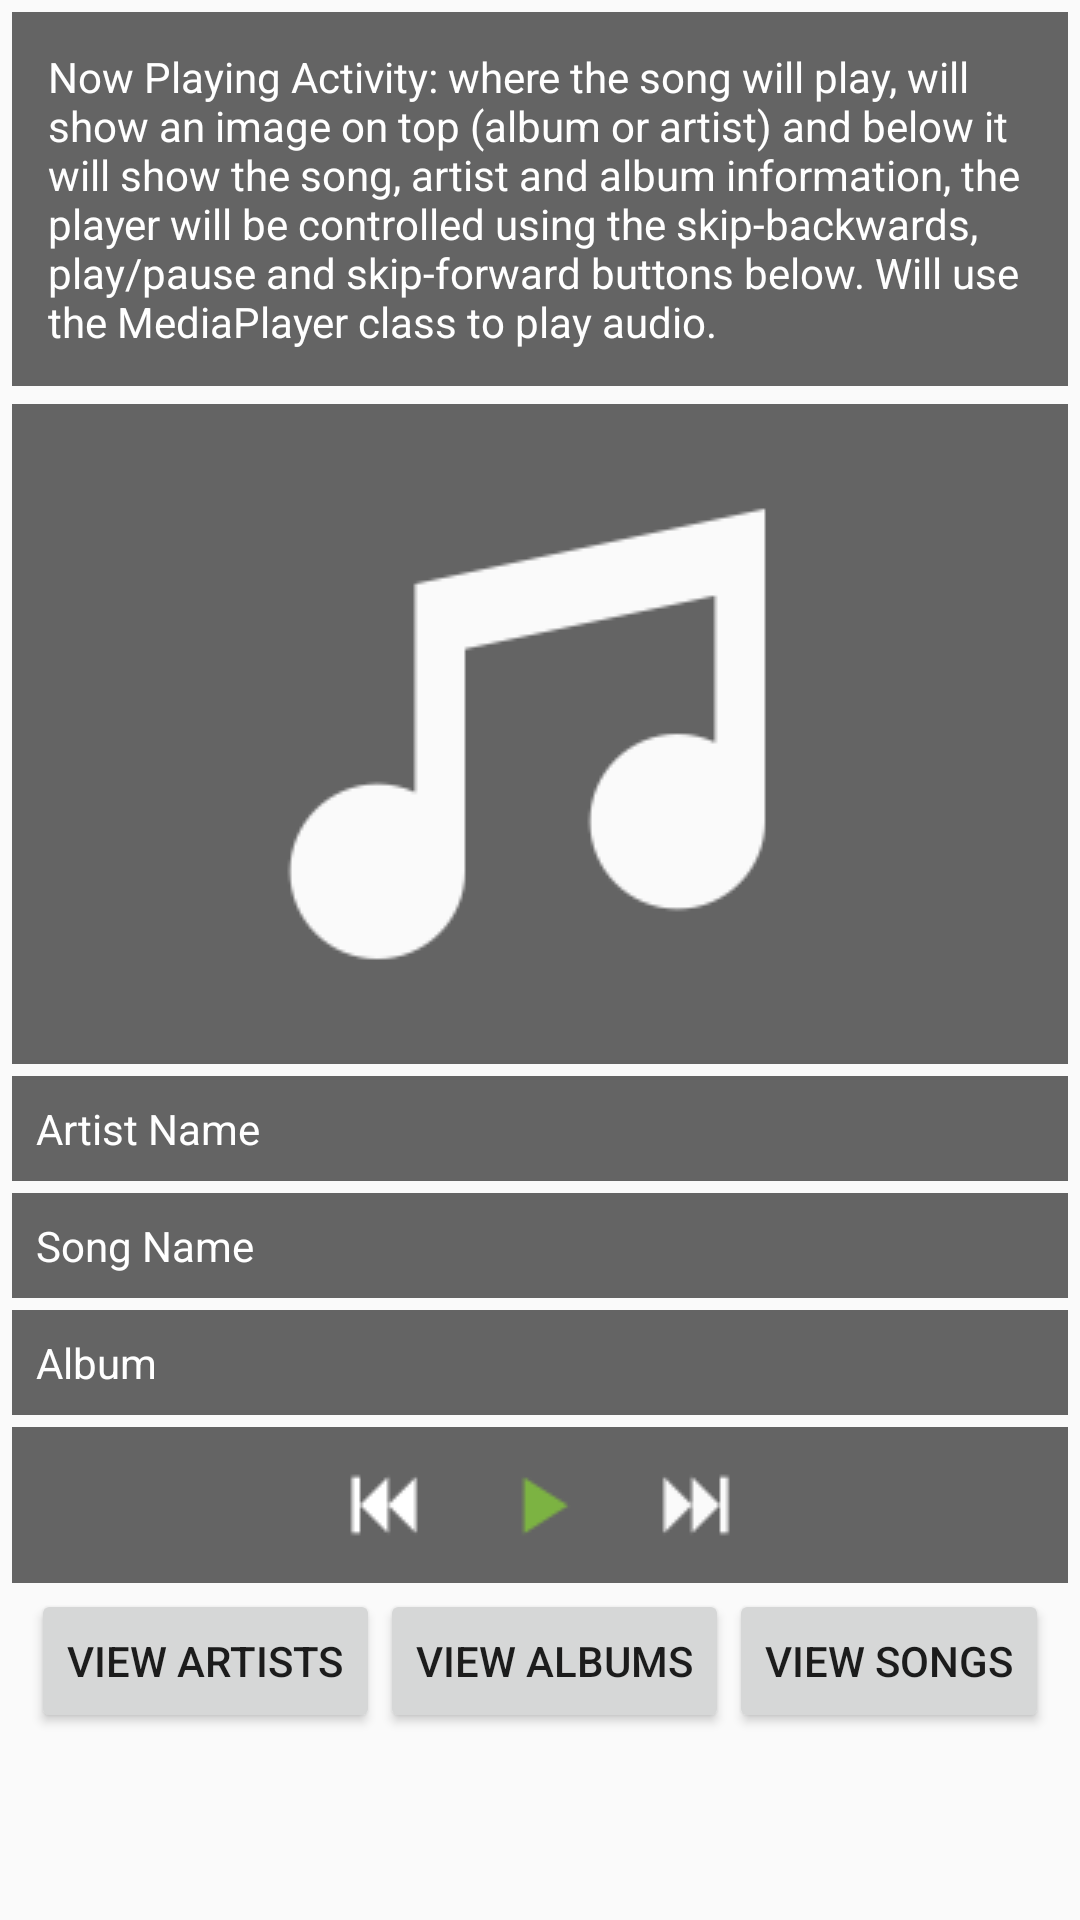

Named icons in this screenshot (1080w x 1920h) and their bounding boxes, (x1, y1, x2, y2):
backward: (350, 1475, 418, 1535)
forward: (662, 1475, 730, 1535)
play: (523, 1478, 567, 1533)
